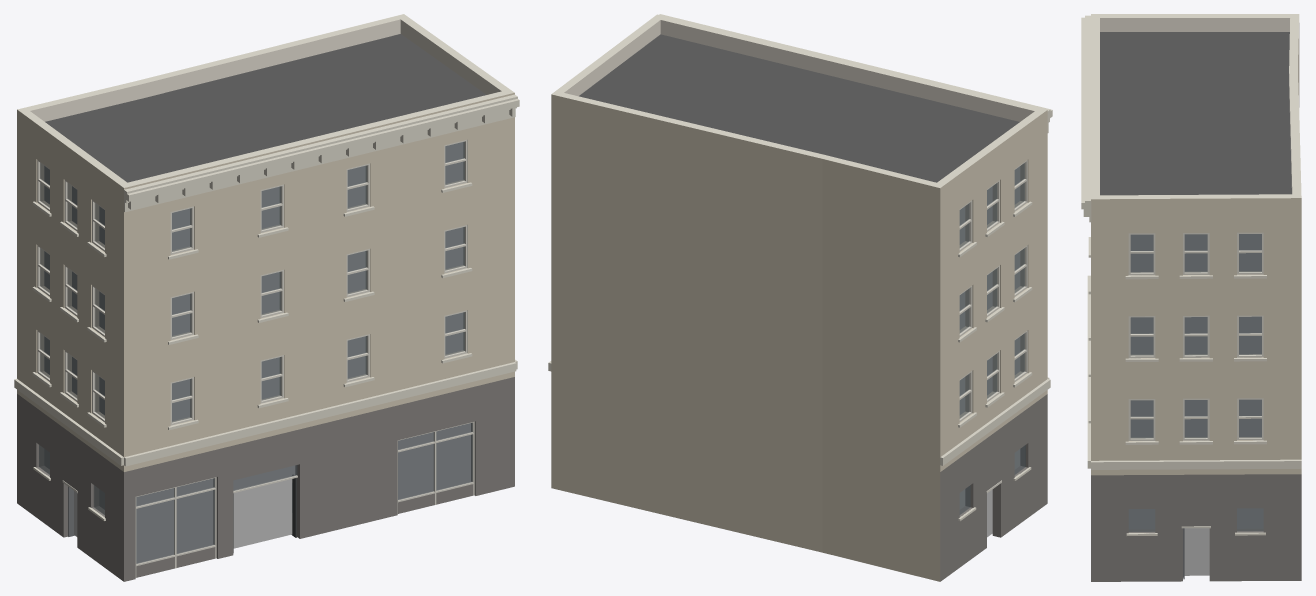
File: exterior.glb
3 views of the same model, side by side, from view 1: azimuth 30°, elevation 25°; view 2: azimuth 150°, elevation 25°; view 3: azimuth 270°, elevation 25° (orthographic). The views are drawn at different scales.
Visible parts, largest first — view 1: shell, roof, glazing, shadow-proxy, trim, frames, storefront; view 2: shell, roof, glazing, trim, frames, shadow-proxy; view 3: shell, roof, shadow-proxy, glazing, trim, frames.
Boxes of the visible parts, x1,y1,x2,y2 form: shell: (17,14,514,581); roof: (45,34,486,182); glazing: (39,141,472,563); shadow-proxy: (44,142,470,562); trim: (14,94,519,520); frames: (37,139,467,425); storefront: (62,421,474,577); shell: (551,14,1047,581); roof: (579,34,1019,182); glazing: (959,163,1025,514); trim: (548,14,1052,521); frames: (959,160,1027,421); shadow-proxy: (960,166,1019,537); shell: (1091,14,1301,581); roof: (1100,32,1291,195); shadow-proxy: (1129,234,1263,575); glazing: (1128,234,1263,531); trim: (1081,15,1301,535); frames: (1128,232,1263,440).
Bounding box in the file's own units: 16.63 × 15.79 × 8.23.
